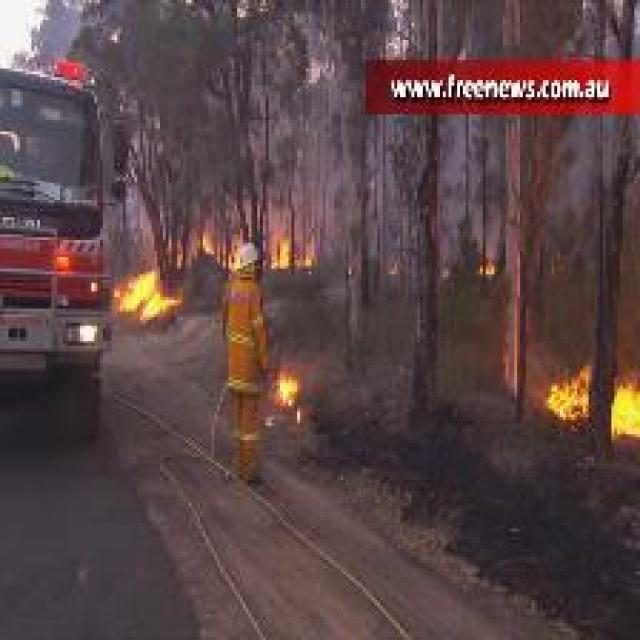Fire: (543, 364, 640, 439), (117, 267, 183, 322), (276, 366, 298, 408)
